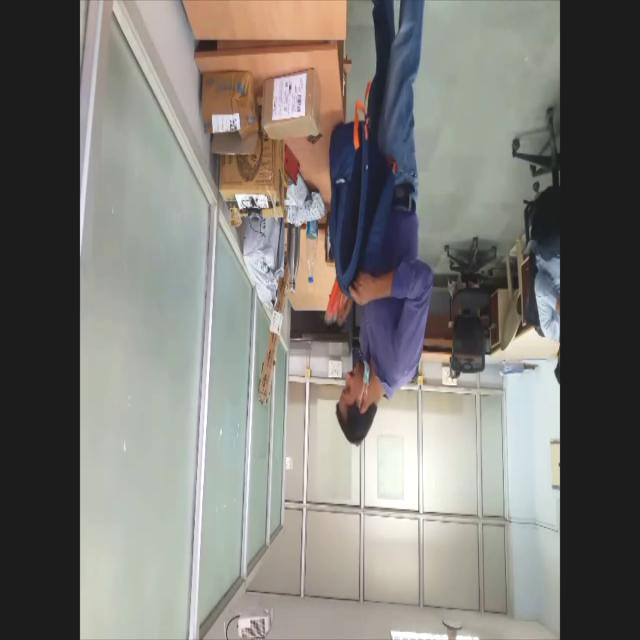shoplifting: (318, 0, 440, 447)
